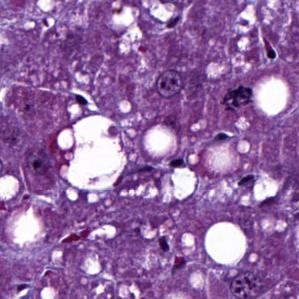ballooning: (55, 114, 131, 194), (247, 71, 296, 121), (140, 119, 181, 162)
